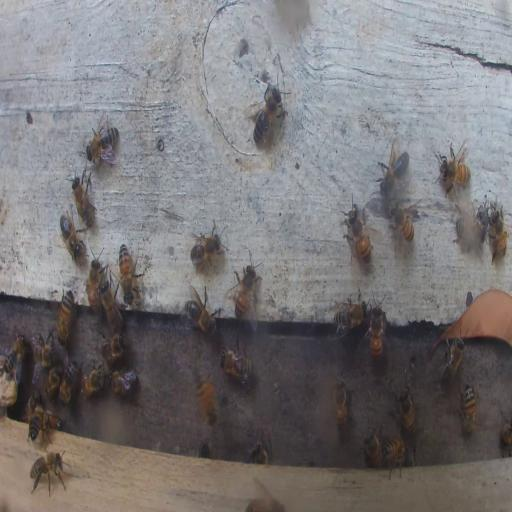bee: (246, 82, 286, 146), (342, 191, 372, 261), (228, 258, 260, 321), (86, 112, 119, 168), (190, 220, 226, 270), (376, 141, 409, 194), (30, 450, 68, 494), (184, 286, 218, 335), (438, 139, 470, 190), (69, 168, 95, 228), (332, 293, 368, 336), (59, 210, 86, 264), (387, 201, 418, 244), (218, 344, 253, 380), (196, 372, 219, 426), (368, 294, 386, 362), (487, 204, 508, 262), (381, 434, 408, 479), (28, 408, 62, 443), (440, 338, 464, 386), (456, 215, 486, 252), (100, 280, 122, 330), (397, 381, 416, 438), (118, 241, 136, 299), (86, 252, 103, 310), (458, 382, 476, 435), (333, 375, 350, 430), (4, 334, 26, 376), (59, 360, 79, 405), (108, 366, 140, 394), (81, 360, 105, 396), (56, 288, 72, 340), (32, 332, 56, 366), (363, 426, 381, 468), (101, 332, 126, 361), (245, 496, 287, 512), (248, 437, 270, 465), (45, 364, 62, 399), (500, 409, 512, 452), (24, 393, 40, 419), (200, 441, 209, 457)
